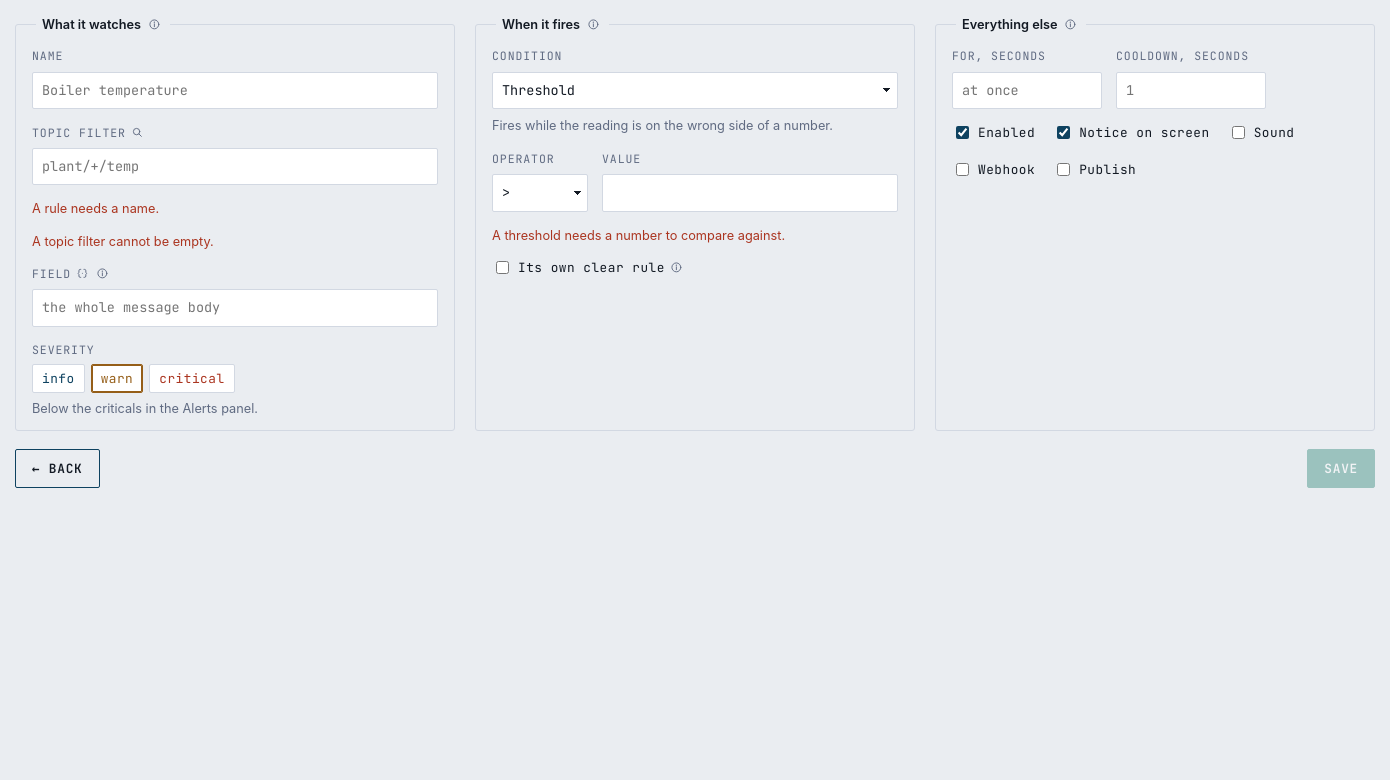
Test: picking a field out of a message › writes the pressed path into the Field box, and shuts
Step 1. Type "plant/boiler/temp" into the field labelled "Topic filter" → point(235, 167), box [32,148,438,185]
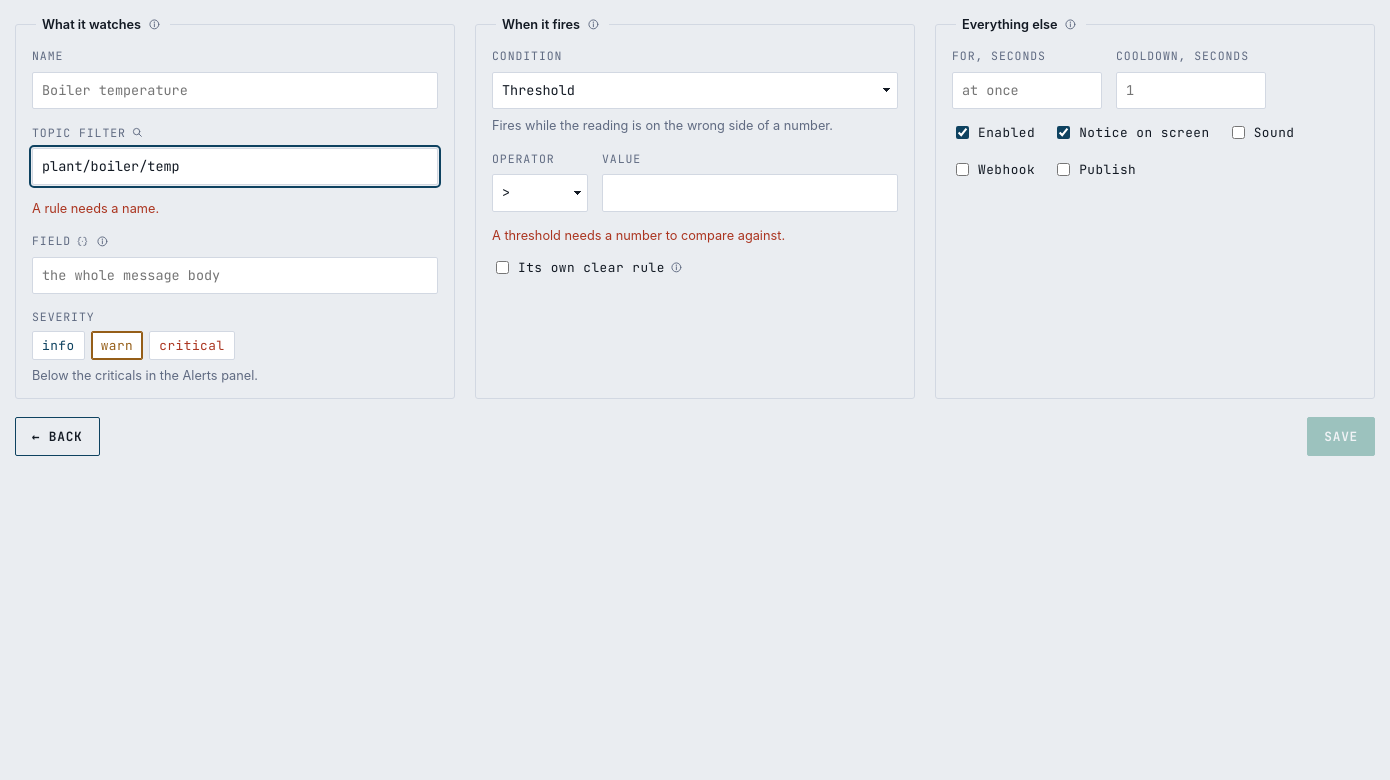
Step 2. Click the button named "Show fields in a message" → point(82, 241), box [73,232,92,250]
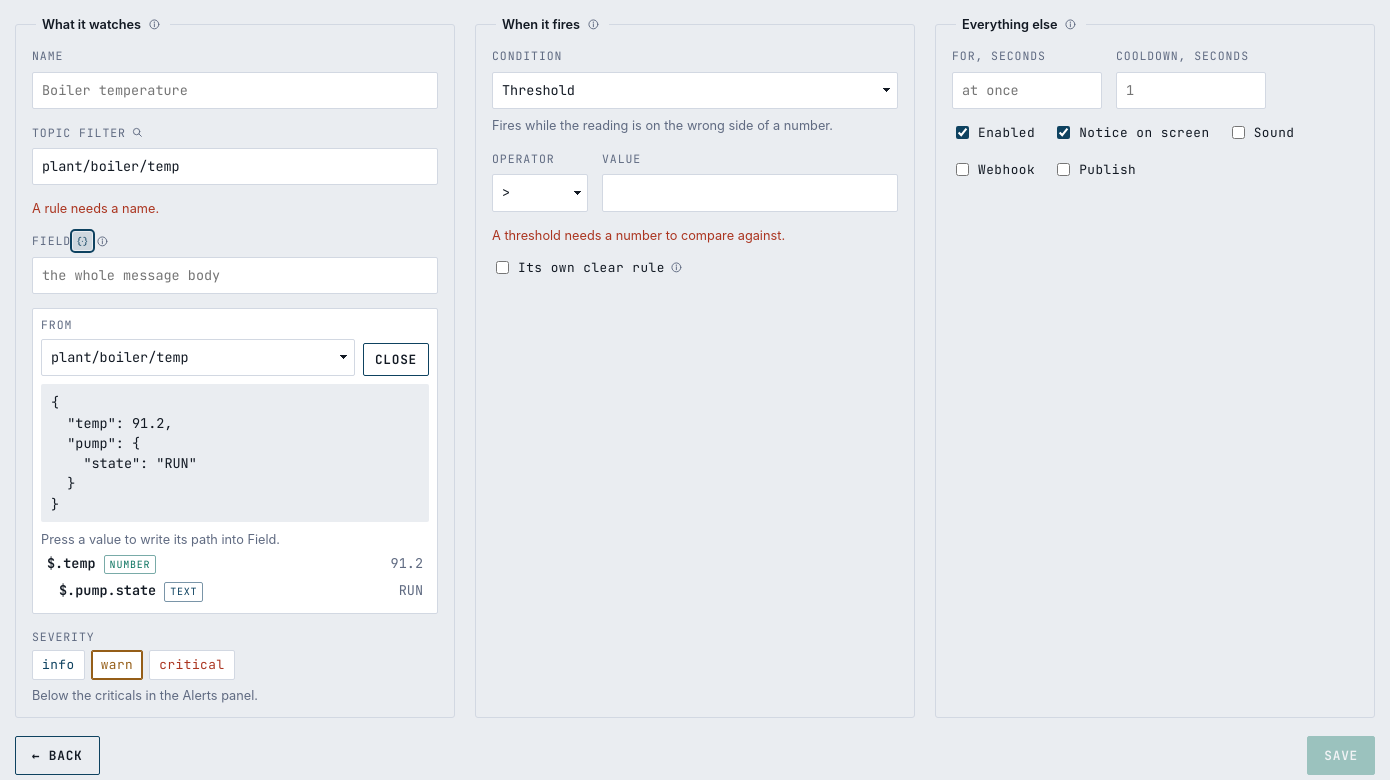
Step 3. Click the button "$.pump.state text RUN" → point(108, 590), box [41,577,429,604]
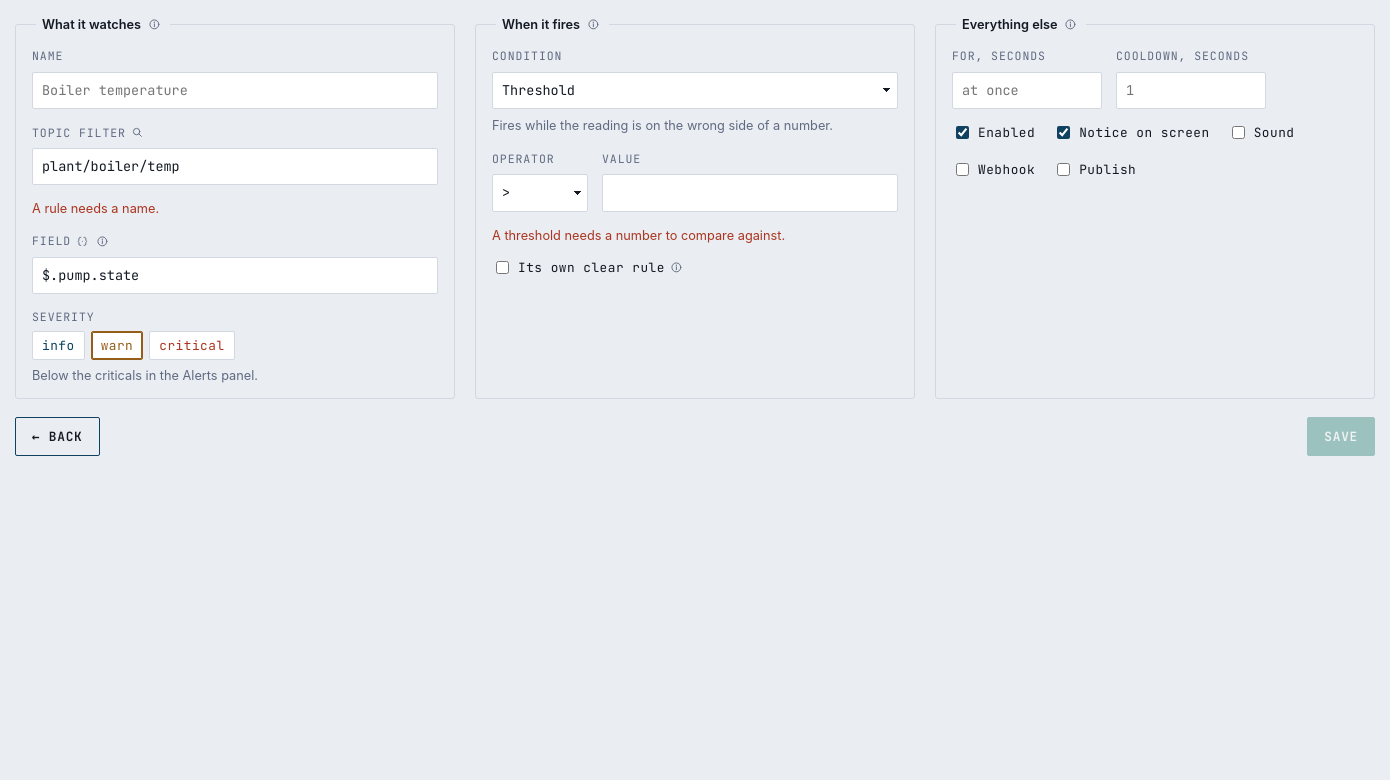
Check: the field labelled "Field" holds "$.pump.state", box [32,257,438,294]
